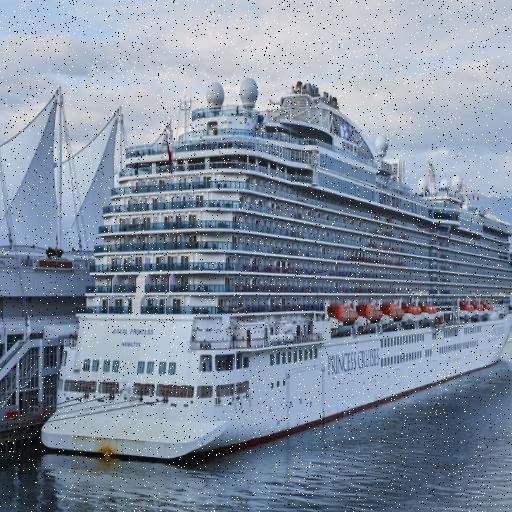cruises: (38, 73, 512, 471)
